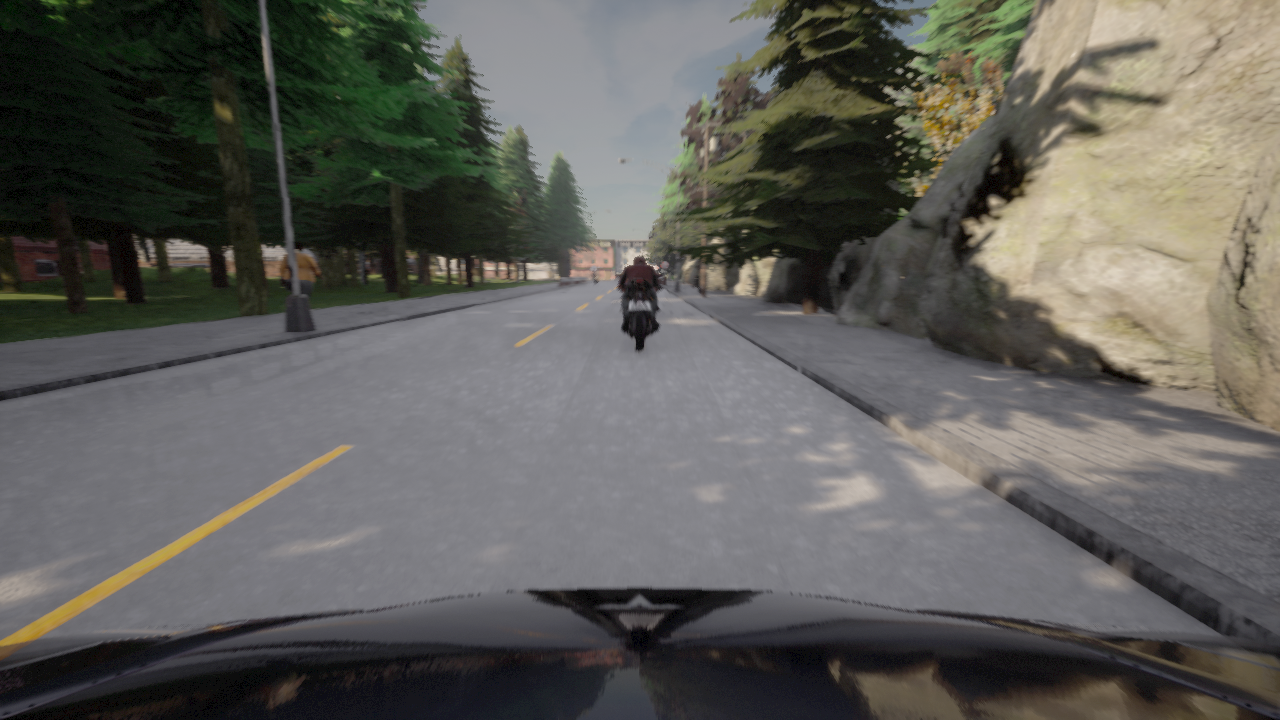cyclist: (0, 588, 1279, 719), (616, 274, 663, 351), (589, 273, 598, 285)
pedestrian: (280, 241, 322, 299), (694, 260, 701, 294)
